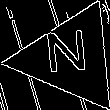N_S: (45, 31, 94, 85)
